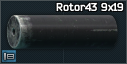Rotor 43 9x19 muzzle brake: (0, 0, 127, 64)
